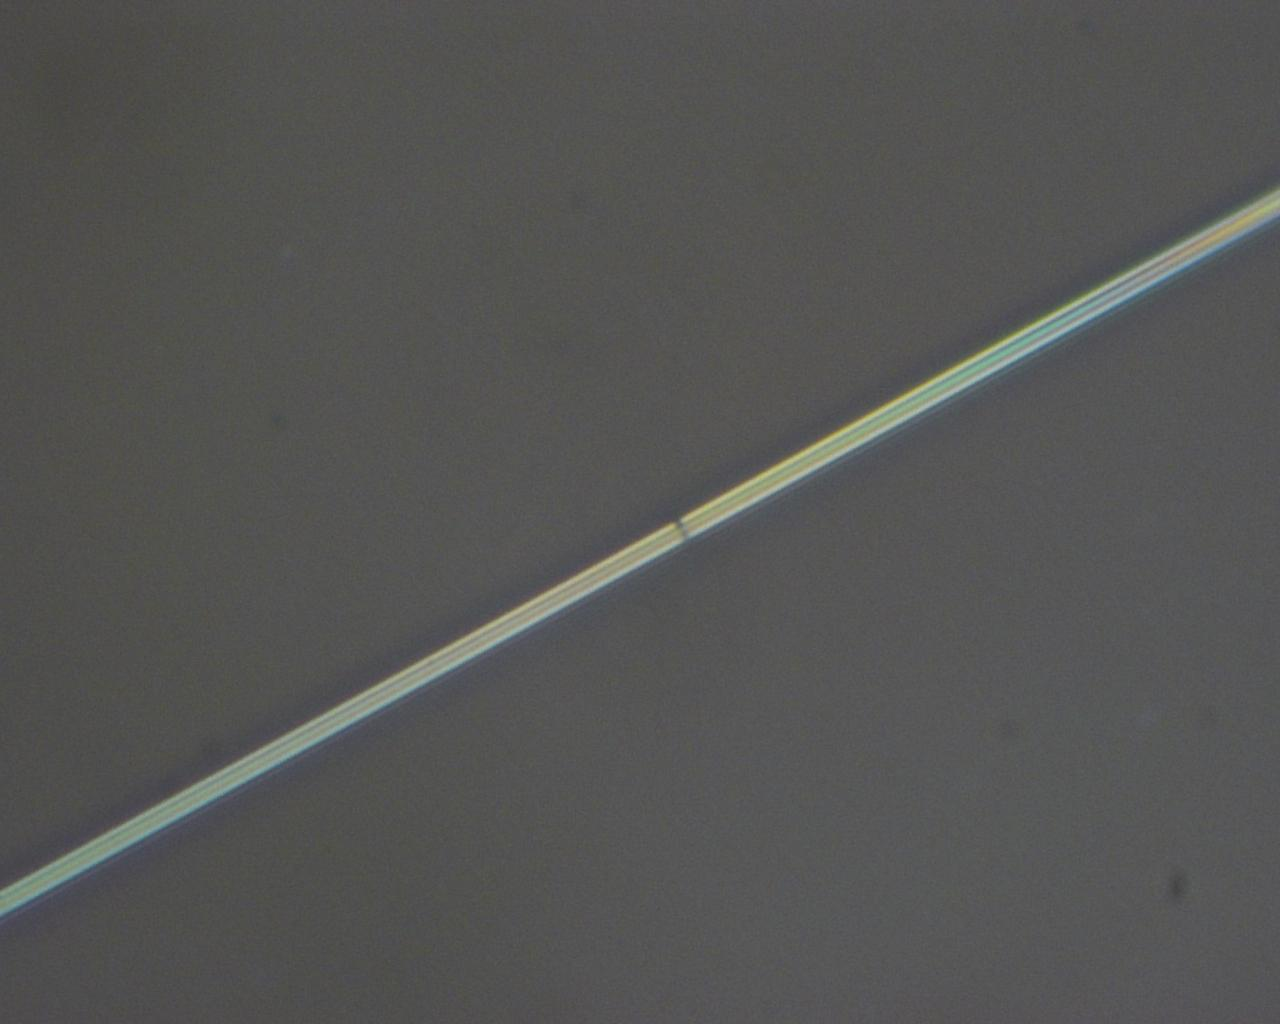fiber: (0, 187, 1280, 917)
